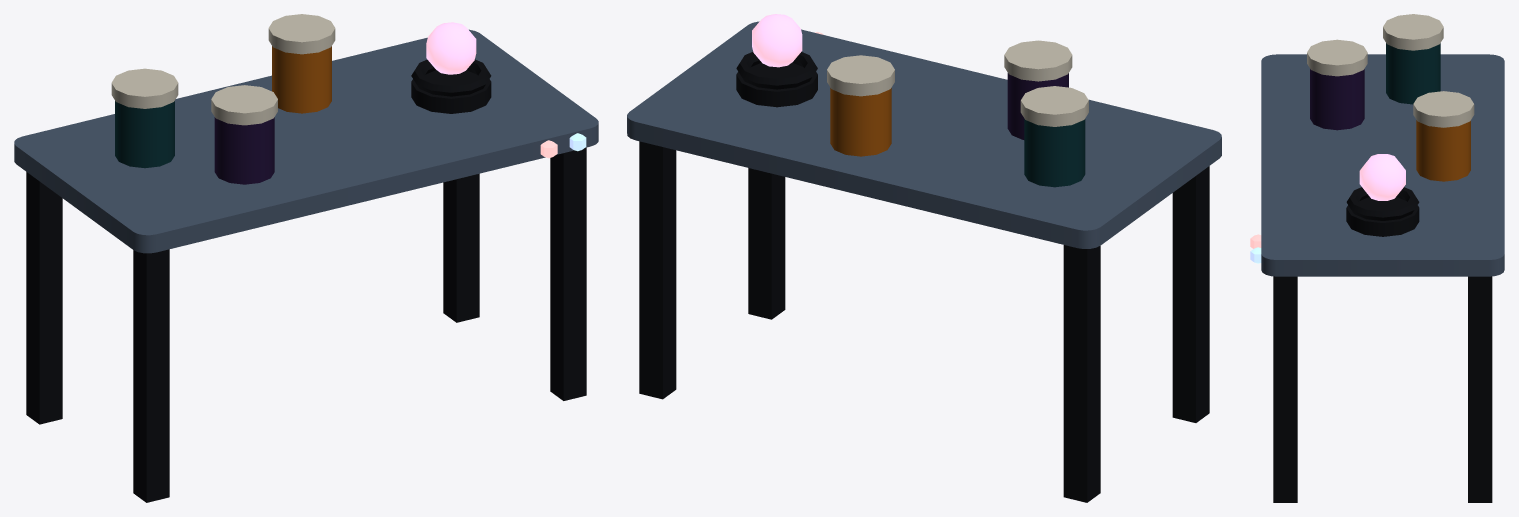
The model's file is lab_table.glb.
The picture shows the model from 3 angles, left to right: view 1: azimuth 30°, elevation 25°; view 2: azimuth 150°, elevation 25°; view 3: azimuth 270°, elevation 25°; orthographic projection. The views are drawn at different scales.
Visible parts, largest first — view 1: lab_table; view 2: lab_table; view 3: lab_table.
Boxes of the visible parts, <box> form: lab_table: <box>14,14,598,502</box>; lab_table: <box>627,14,1221,502</box>; lab_table: <box>1250,14,1504,502</box>.
Size of the model in its own units: 1.6 by 1.14 by 0.836.
